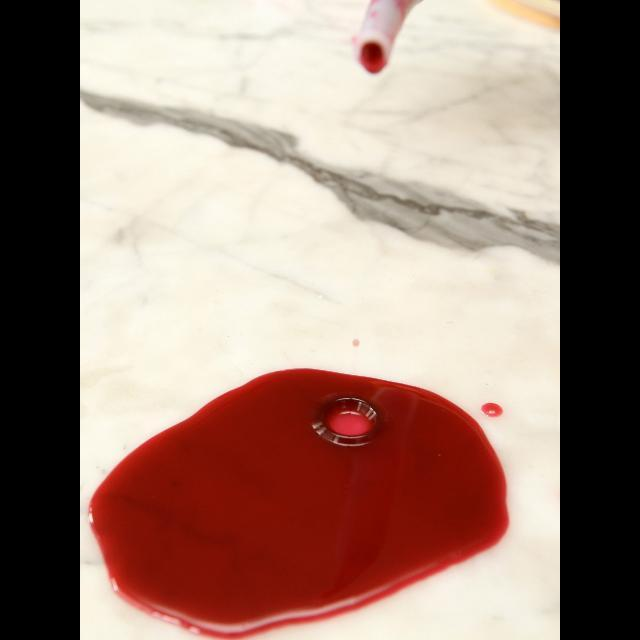blood: (88, 368, 510, 640), (481, 402, 503, 417)
